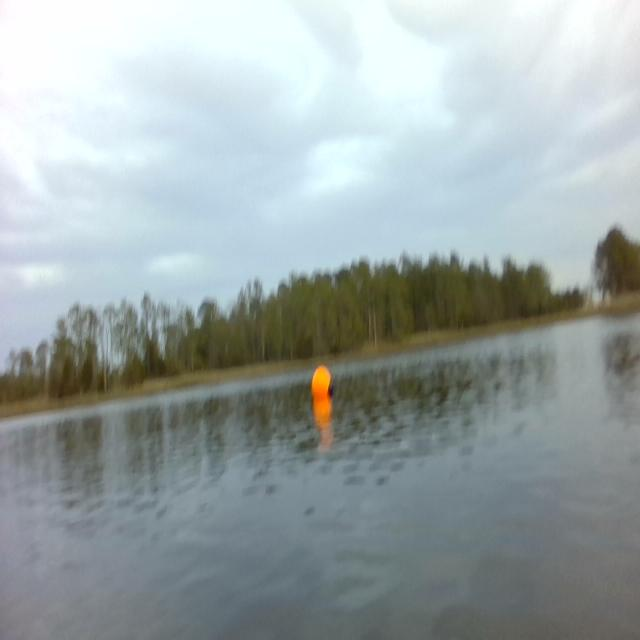Buoy: (308, 361, 338, 404)
